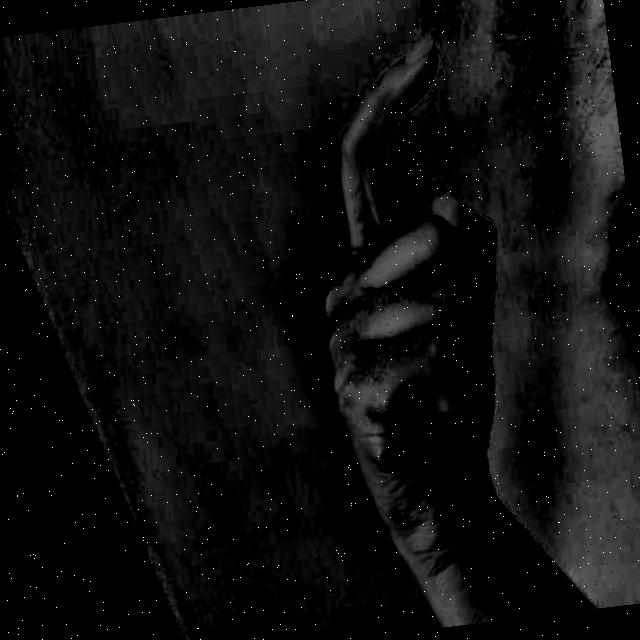E: (272, 10, 539, 556)
